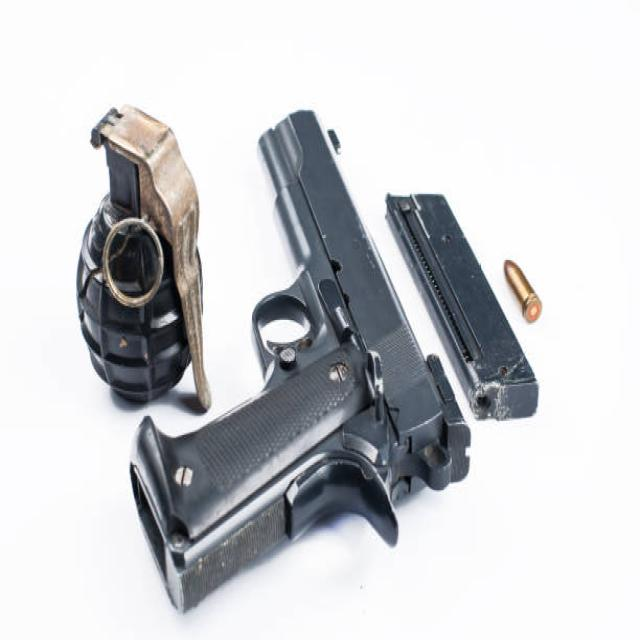grenade: (74, 104, 218, 421)
